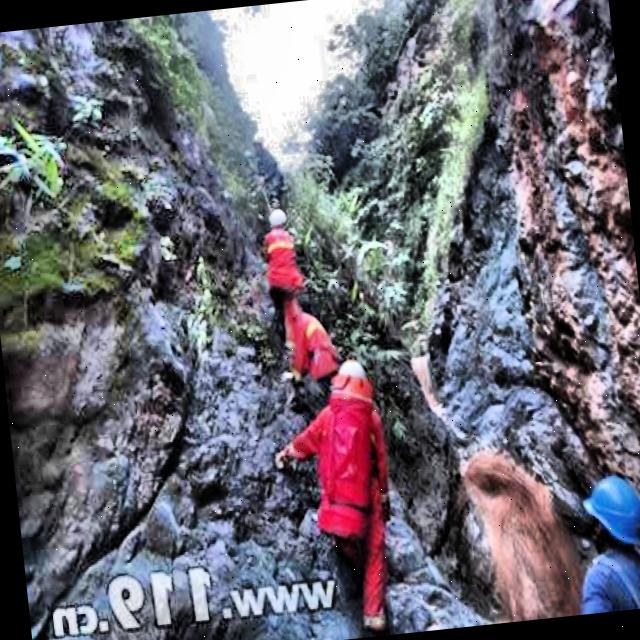helmet: (576, 467, 640, 555), (267, 206, 292, 233)
